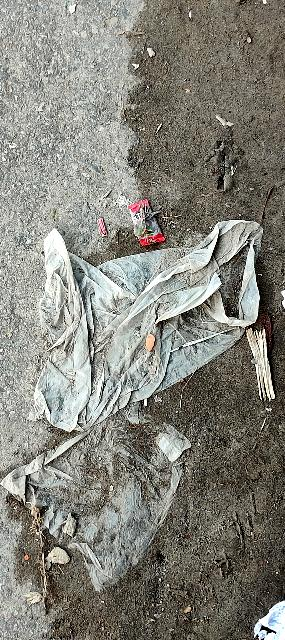polythene: (10, 206, 285, 465)
